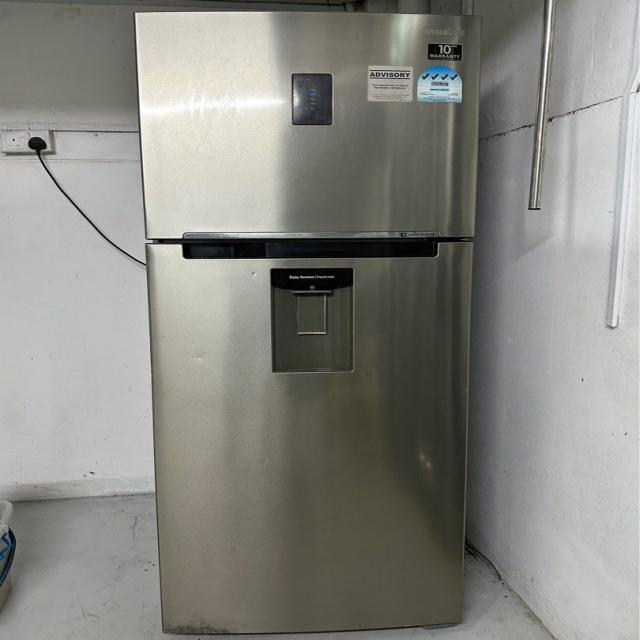refrigerator: (133, 11, 480, 634)
